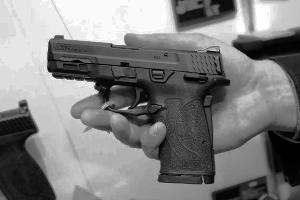handgun: (30, 42, 232, 184)
